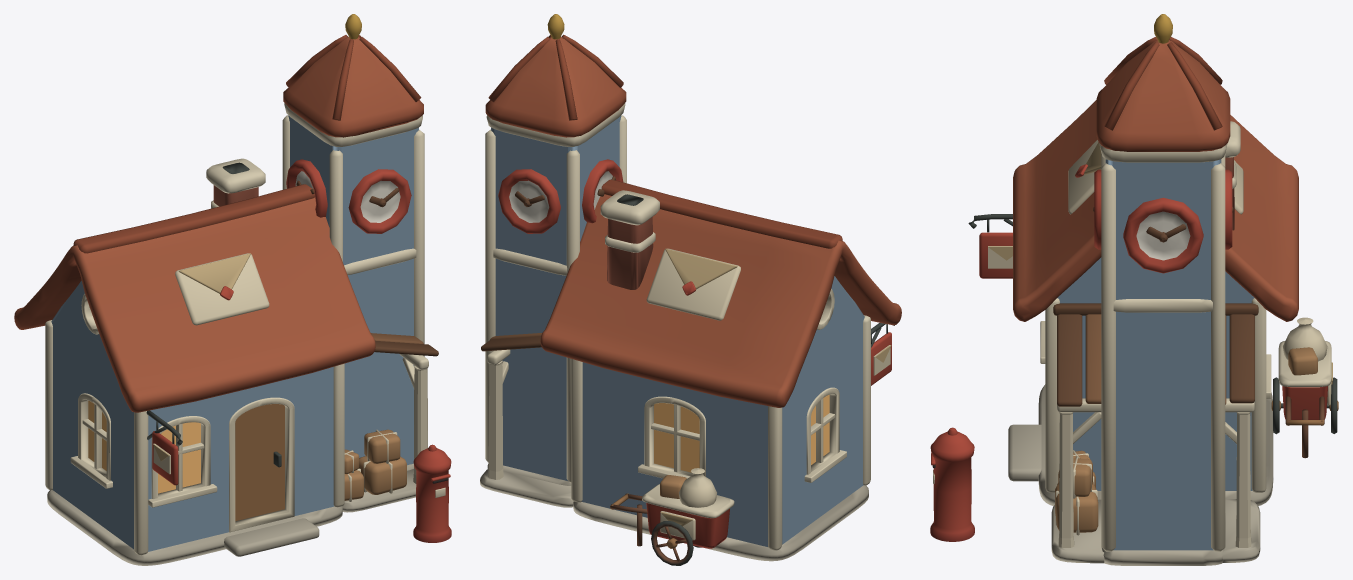
File: BLD_Post_Office_A_T2.fbx
3 renders of one model, left to right at view 1: azimuth 30°, elevation 25°; view 2: azimuth 150°, elevation 25°; view 3: azimuth 270°, elevation 25°, orthographic. The views are drawn at different scales.
Visible parts, largest first — view 1: BLD_Post_Office_A_T2_Body_LOD0, BLD_Post_Office_A_T2_Sign_LOD0; view 2: BLD_Post_Office_A_T2_Body_LOD0, BLD_Post_Office_A_T2_Sign_LOD0; view 3: BLD_Post_Office_A_T2_Body_LOD0, BLD_Post_Office_A_T2_Sign_LOD0.
Part boxes in pixels (bbox=[...]): BLD_Post_Office_A_T2_Body_LOD0: bbox=[14, 14, 451, 565]; BLD_Post_Office_A_T2_Sign_LOD0: bbox=[152, 421, 178, 485]; BLD_Post_Office_A_T2_Body_LOD0: bbox=[480, 14, 901, 565]; BLD_Post_Office_A_T2_Sign_LOD0: bbox=[871, 324, 891, 385]; BLD_Post_Office_A_T2_Body_LOD0: bbox=[930, 14, 1338, 565]; BLD_Post_Office_A_T2_Sign_LOD0: bbox=[979, 219, 1012, 278].
Size of what is drawn, in the model's own units: 4.83 by 6.21 by 4.38.
